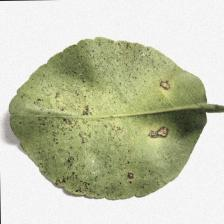canker: (4, 51, 128, 175)
